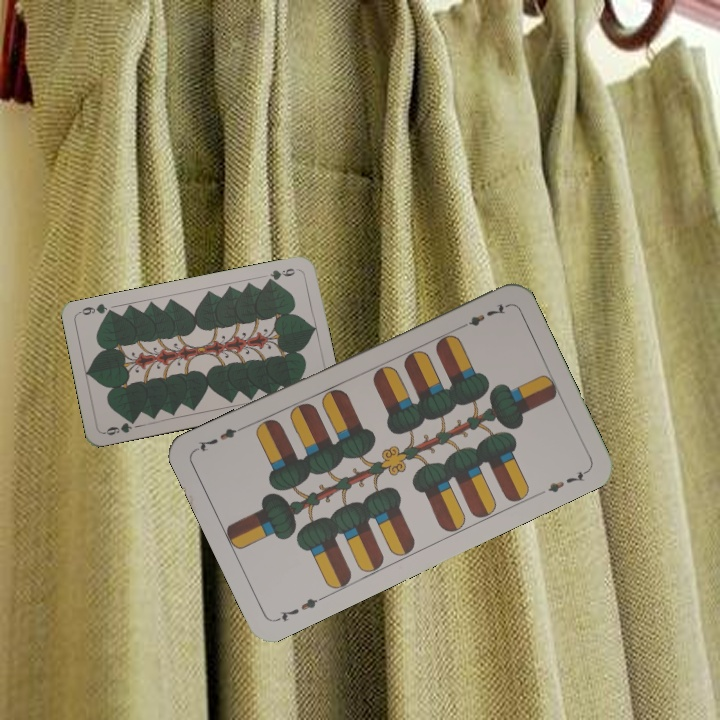E7: (454, 299, 510, 332), (272, 592, 328, 624)
G9: (100, 415, 138, 438), (262, 264, 301, 285)
